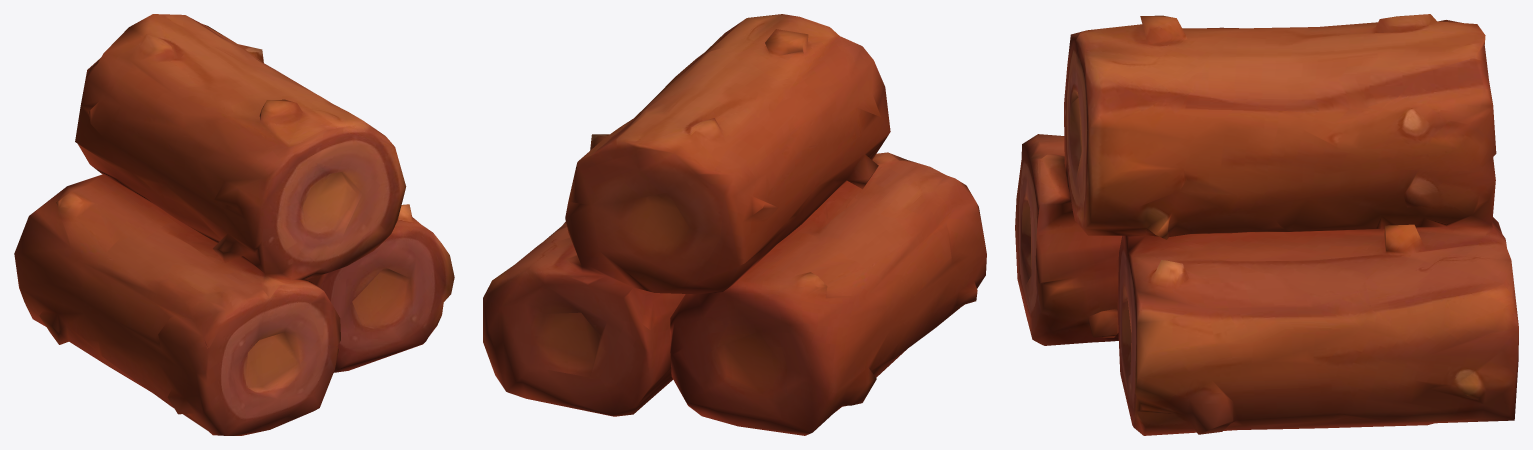
Rendered from camp_logs-zAnyNpmm.glb.
The picture shows the model from 3 angles, left to right: view 1: azimuth 30°, elevation 25°; view 2: azimuth 150°, elevation 25°; view 3: azimuth 270°, elevation 25°; orthographic projection. The views are drawn at different scales.
Parts seen in each view (by area): view 1: tripo_node_f90d68e9-71f2-4d4f-af3b-91b452b20816; view 2: tripo_node_f90d68e9-71f2-4d4f-af3b-91b452b20816; view 3: tripo_node_f90d68e9-71f2-4d4f-af3b-91b452b20816.
Part boxes in pixels (x1,y1,x2,y2): tripo_node_f90d68e9-71f2-4d4f-af3b-91b452b20816: [14, 14, 454, 435]; tripo_node_f90d68e9-71f2-4d4f-af3b-91b452b20816: [483, 14, 986, 435]; tripo_node_f90d68e9-71f2-4d4f-af3b-91b452b20816: [1015, 14, 1518, 435].
Size of the model in its own units: 0.9212 by 0.769 by 1.
Materials: 1 (1 with a texture image).
